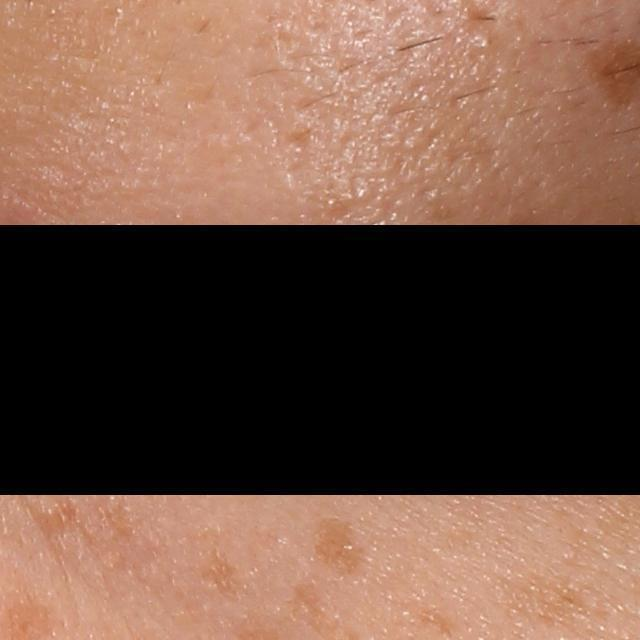melasma: (498, 566, 591, 632), (306, 511, 366, 585), (193, 545, 257, 606), (30, 498, 82, 546)
